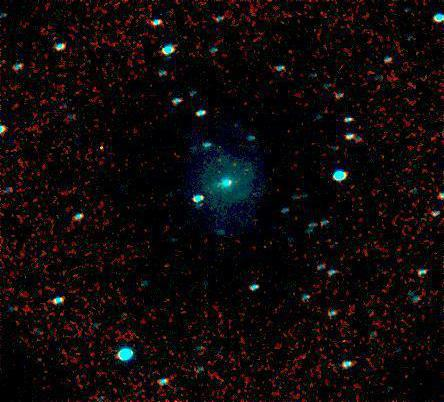star: (220, 149, 250, 179)
